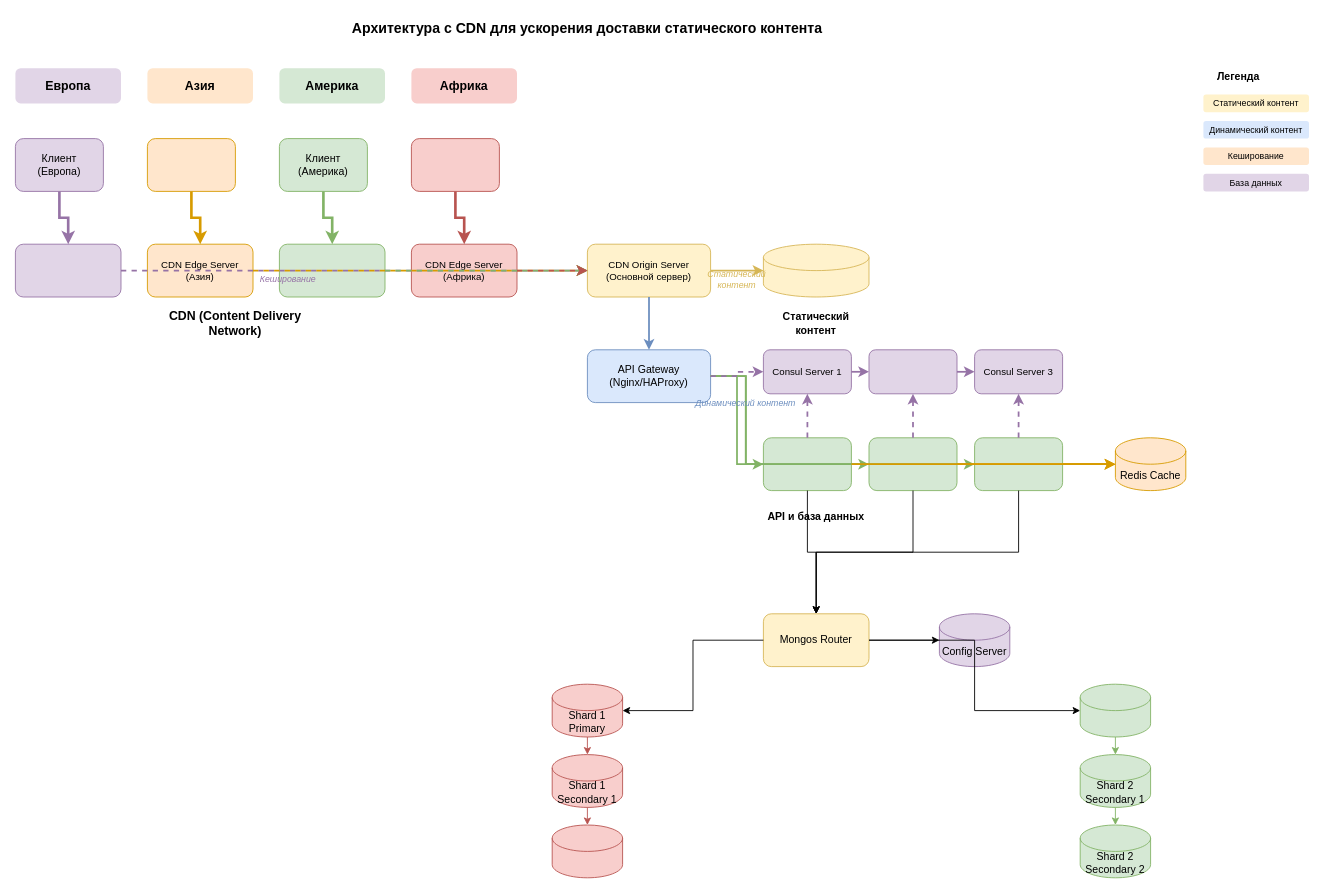
This 1324x893 diagram has some shape labels left out. Here are the shapes that lost their labels. From the top down, the box of each, then its label:
(147, 138, 235, 191): Клиент (Азия)
(411, 138, 499, 191): Клиент (Африка)
(15, 243, 121, 297): CDN Edge Server (Европа)
(279, 243, 385, 297): CDN Edge Server (Америка)
(763, 243, 869, 297): Static Content Storage (Изображения, CSS, JS)
(868, 349, 957, 394): Consul Server 2
(763, 437, 851, 491): API Instance 1 (pymongo-api)
(868, 437, 957, 491): API Instance 2 (pymongo-api)
(974, 437, 1063, 491): API Instance 3 (pymongo-api)
(1079, 683, 1151, 737): Shard 2 Primary
(551, 824, 623, 878): Shard 1 Secondary 2
